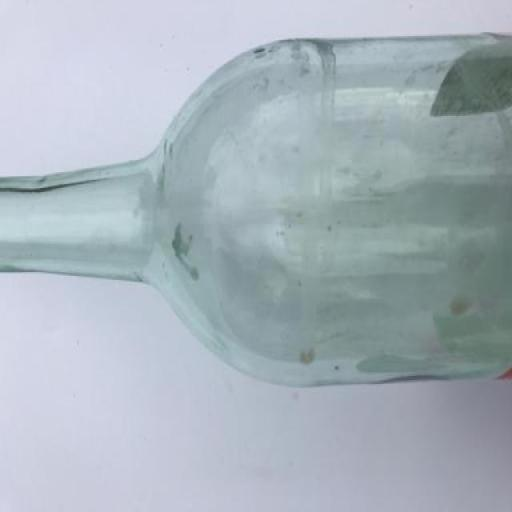glass: (0, 6, 512, 402)
